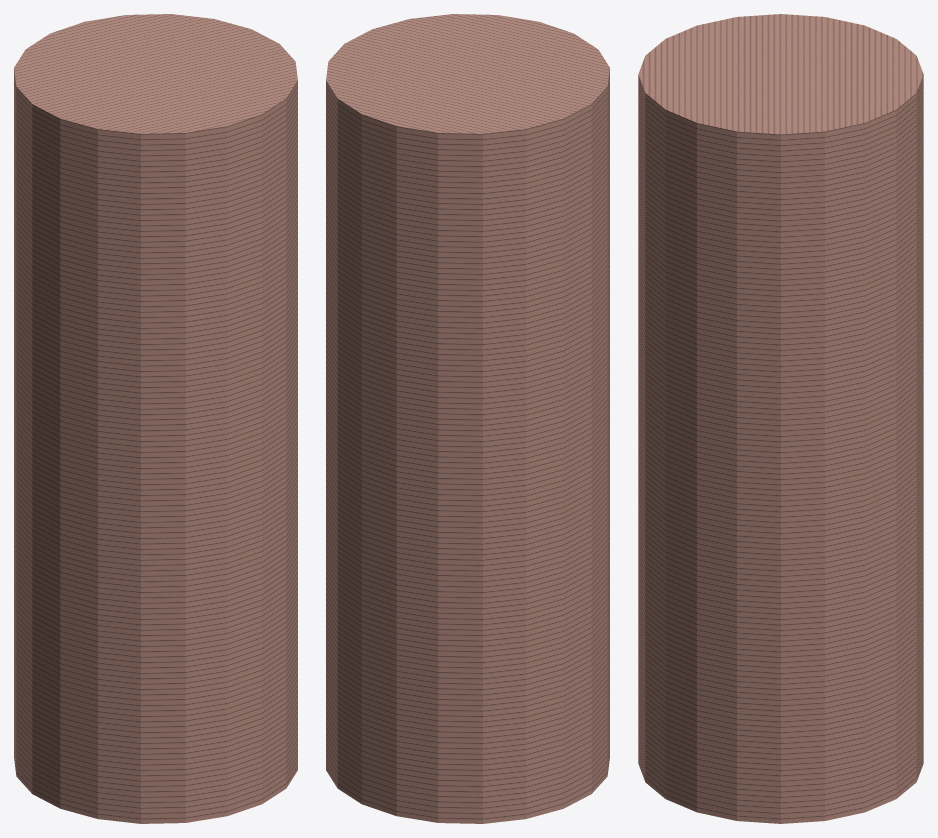
Rendered from grain_silo.glb.
3 renders of one model, left to right at view 1: azimuth 30°, elevation 25°; view 2: azimuth 150°, elevation 25°; view 3: azimuth 270°, elevation 25°, orthographic.
Parts seen in each view (by area): view 1: grain_silo-col; view 2: grain_silo-col; view 3: grain_silo-col.
Part boxes in pixels (x1,y1,x2,y2): grain_silo-col: [14, 14, 297, 823]; grain_silo-col: [326, 14, 609, 823]; grain_silo-col: [638, 14, 923, 823].
Bounding box in the file's own units: 6 × 16 × 6.
Materials: 1 (1 with a texture image).
